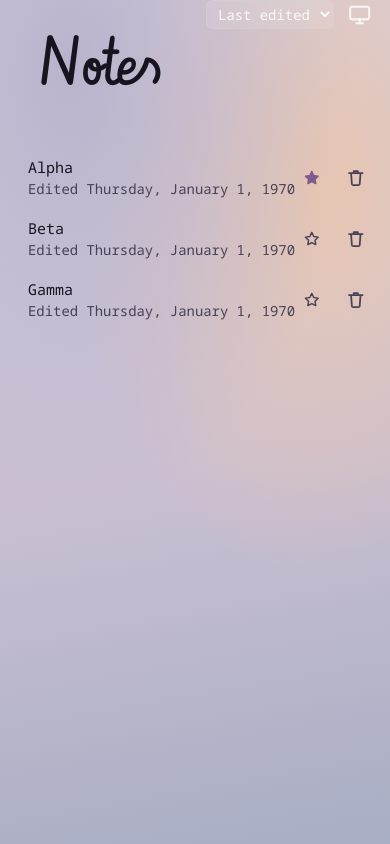
deleting from a row asks first › leaves the note alone when the dialog is dismissed
Click the button named "Move Beta to Trash": click(356, 239) [338,221,374,257]
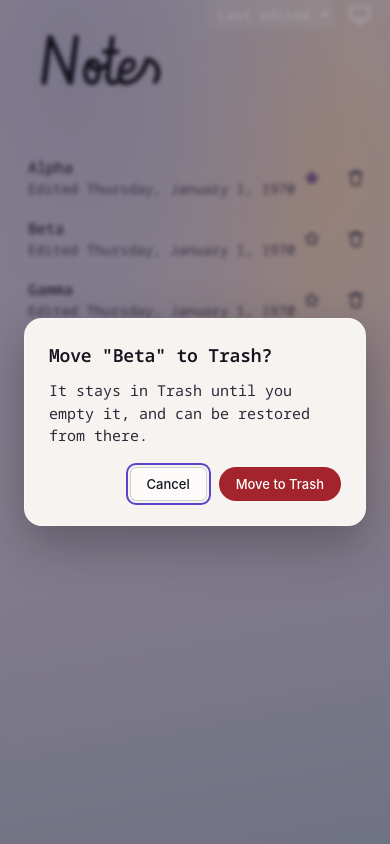
Press Escape
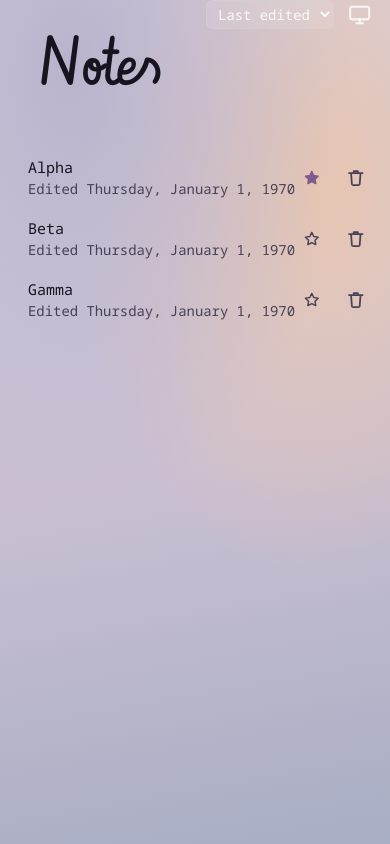
Now the dialog is gone
